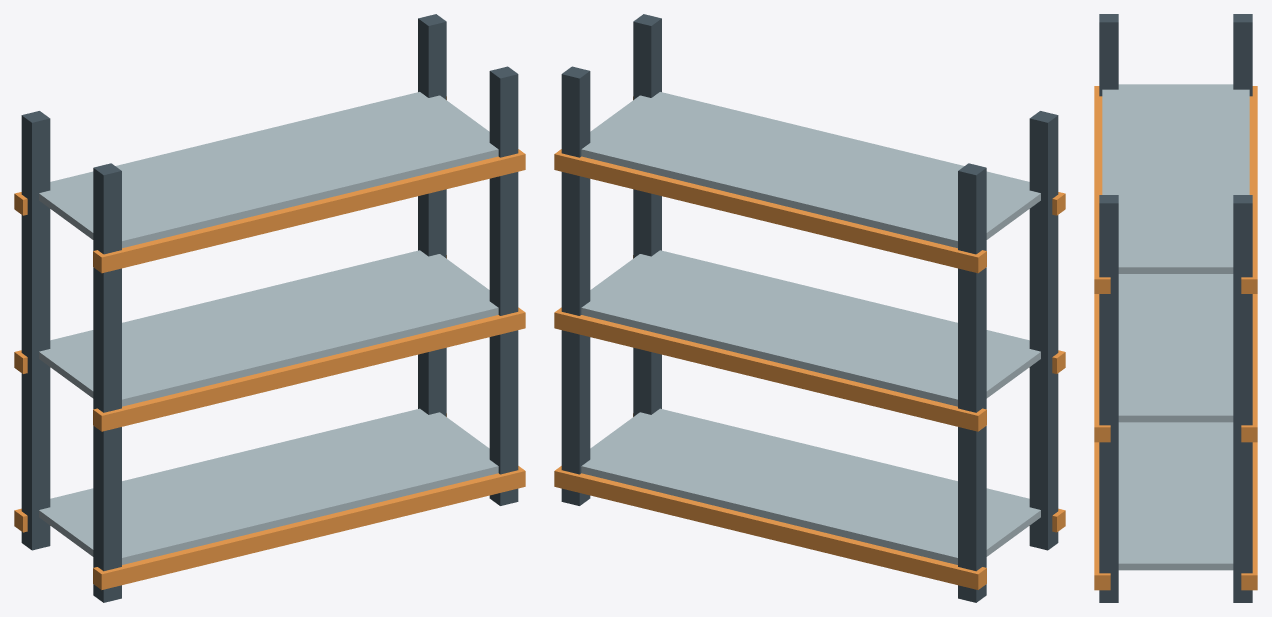
The model's file is warehouse-pallet-rack.glb.
3 renders of one model, left to right at view 1: azimuth 30°, elevation 25°; view 2: azimuth 150°, elevation 25°; view 3: azimuth 270°, elevation 25°, orthographic. The views are drawn at different scales.
Visible parts, largest first — view 1: steel, dark, orange; view 2: steel, dark, orange; view 3: steel, dark, orange.
Boxes of the visible parts, bbox=[...] form: steel: bbox=[39, 92, 498, 564]; dark: bbox=[21, 14, 518, 602]; orange: bbox=[14, 96, 525, 589]; steel: bbox=[581, 92, 1040, 564]; dark: bbox=[561, 14, 1058, 602]; orange: bbox=[554, 96, 1065, 589]; steel: bbox=[1102, 84, 1249, 570]; dark: bbox=[1099, 14, 1252, 602]; orange: bbox=[1094, 86, 1257, 590].
Size of the model in its own units: 2.8 by 2.7 by 0.9999.
